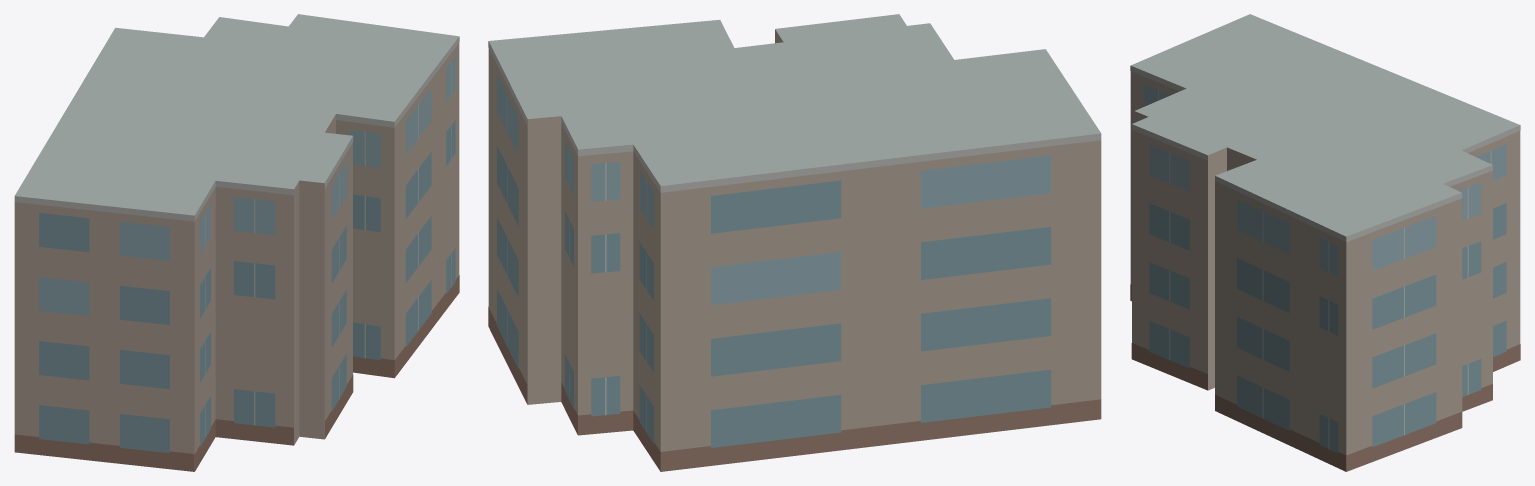
File: survey-upis-32518786.glb
The picture shows the model from 3 angles, left to right: view 1: azimuth 30°, elevation 25°; view 2: azimuth 150°, elevation 25°; view 3: azimuth 270°, elevation 25°; orthographic projection. The views are drawn at different scales.
Visible parts, largest first — view 1: survey-upis-32518786.tmp; view 2: survey-upis-32518786.tmp; view 3: survey-upis-32518786.tmp.
Part boxes in pixels (left/top/right/bottom): survey-upis-32518786.tmp: left=14, top=14, right=459, bottom=471; survey-upis-32518786.tmp: left=488, top=14, right=1101, bottom=471; survey-upis-32518786.tmp: left=1130, top=14, right=1520, bottom=471.
Size of the model in its own units: 21.13 by 10.4 by 15.63.
